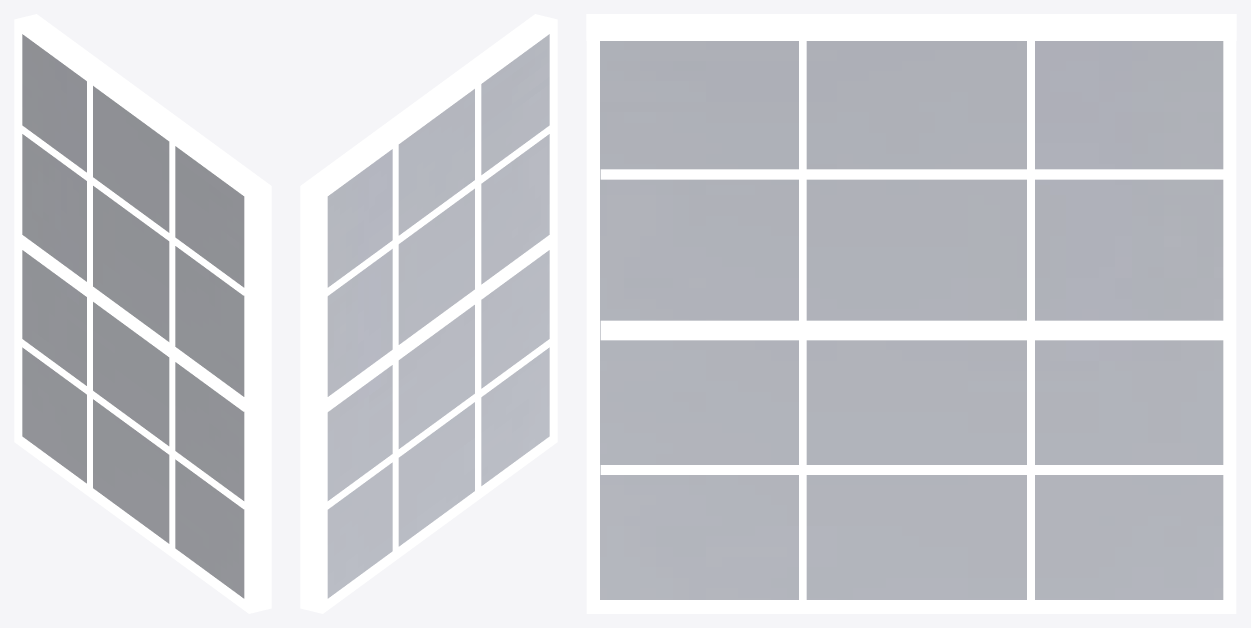
File: black_window.c7e84e76.gltf
3 renders of one model, left to right at view 1: azimuth 30°, elevation 25°; view 2: azimuth 150°, elevation 25°; view 3: azimuth 270°, elevation 25°, orthographic. The views are drawn at different scales.
Visible parts, largest first — view 1: window, trims, inside_trims; view 2: window, trims, inside_trims; view 3: window, trims, inside_trims.
Part boxes in pixels (bbox=[...]): window: bbox=[22, 34, 244, 598]; trims: bbox=[14, 14, 271, 613]; inside_trims: bbox=[17, 81, 244, 549]; window: bbox=[327, 34, 549, 598]; trims: bbox=[300, 14, 557, 613]; inside_trims: bbox=[326, 84, 552, 552]; window: bbox=[600, 41, 1223, 599]; trims: bbox=[586, 14, 1236, 613]; inside_trims: bbox=[600, 40, 1226, 603].
Bounding box in the file's own units: 0.3 × 5.03 × 5.07.
3 materials, 1 textured.
